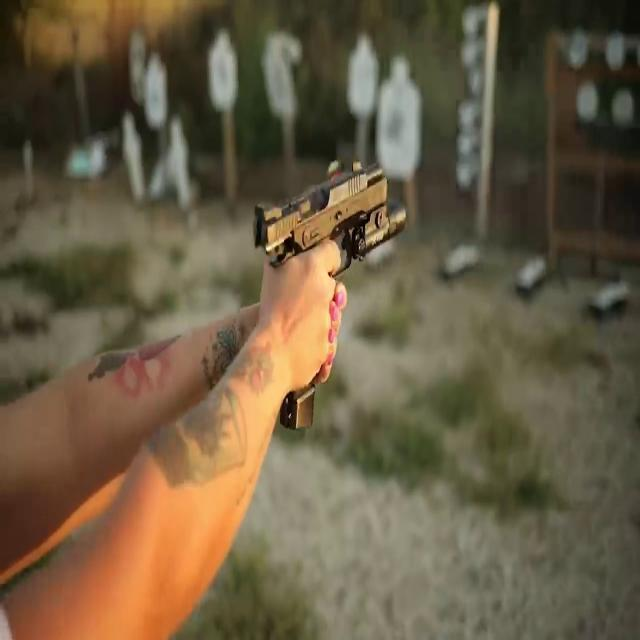Handgun: (247, 151, 413, 437)
